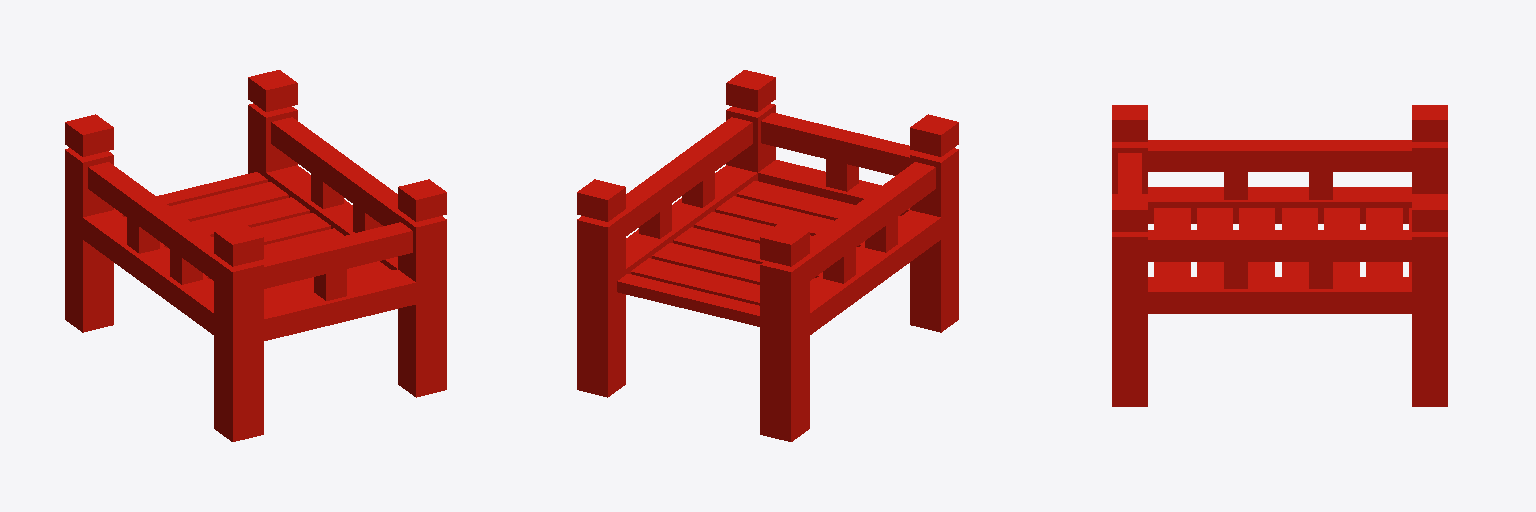
3 views of the same model, side by side, from view 1: azimuth 30°, elevation 25°; view 2: azimuth 150°, elevation 25°; view 3: azimuth 270°, elevation 25° (orthographic).
Parts seen in each view (by area): view 1: cube; view 2: cube; view 3: cube.
Part boxes in pixels (left/top/right/bottom): cube: left=65, top=70, right=446, bottom=441; cube: left=577, top=70, right=958, bottom=441; cube: left=1112, top=105, right=1447, bottom=406.
Size of the model in its own units: 0.6406 by 0.5625 by 0.8672.
1 materials, 1 textured.